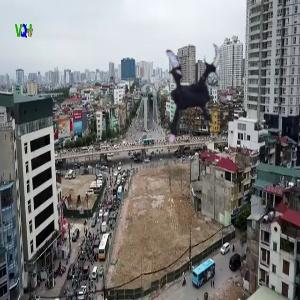drone: (129, 33, 242, 146)
